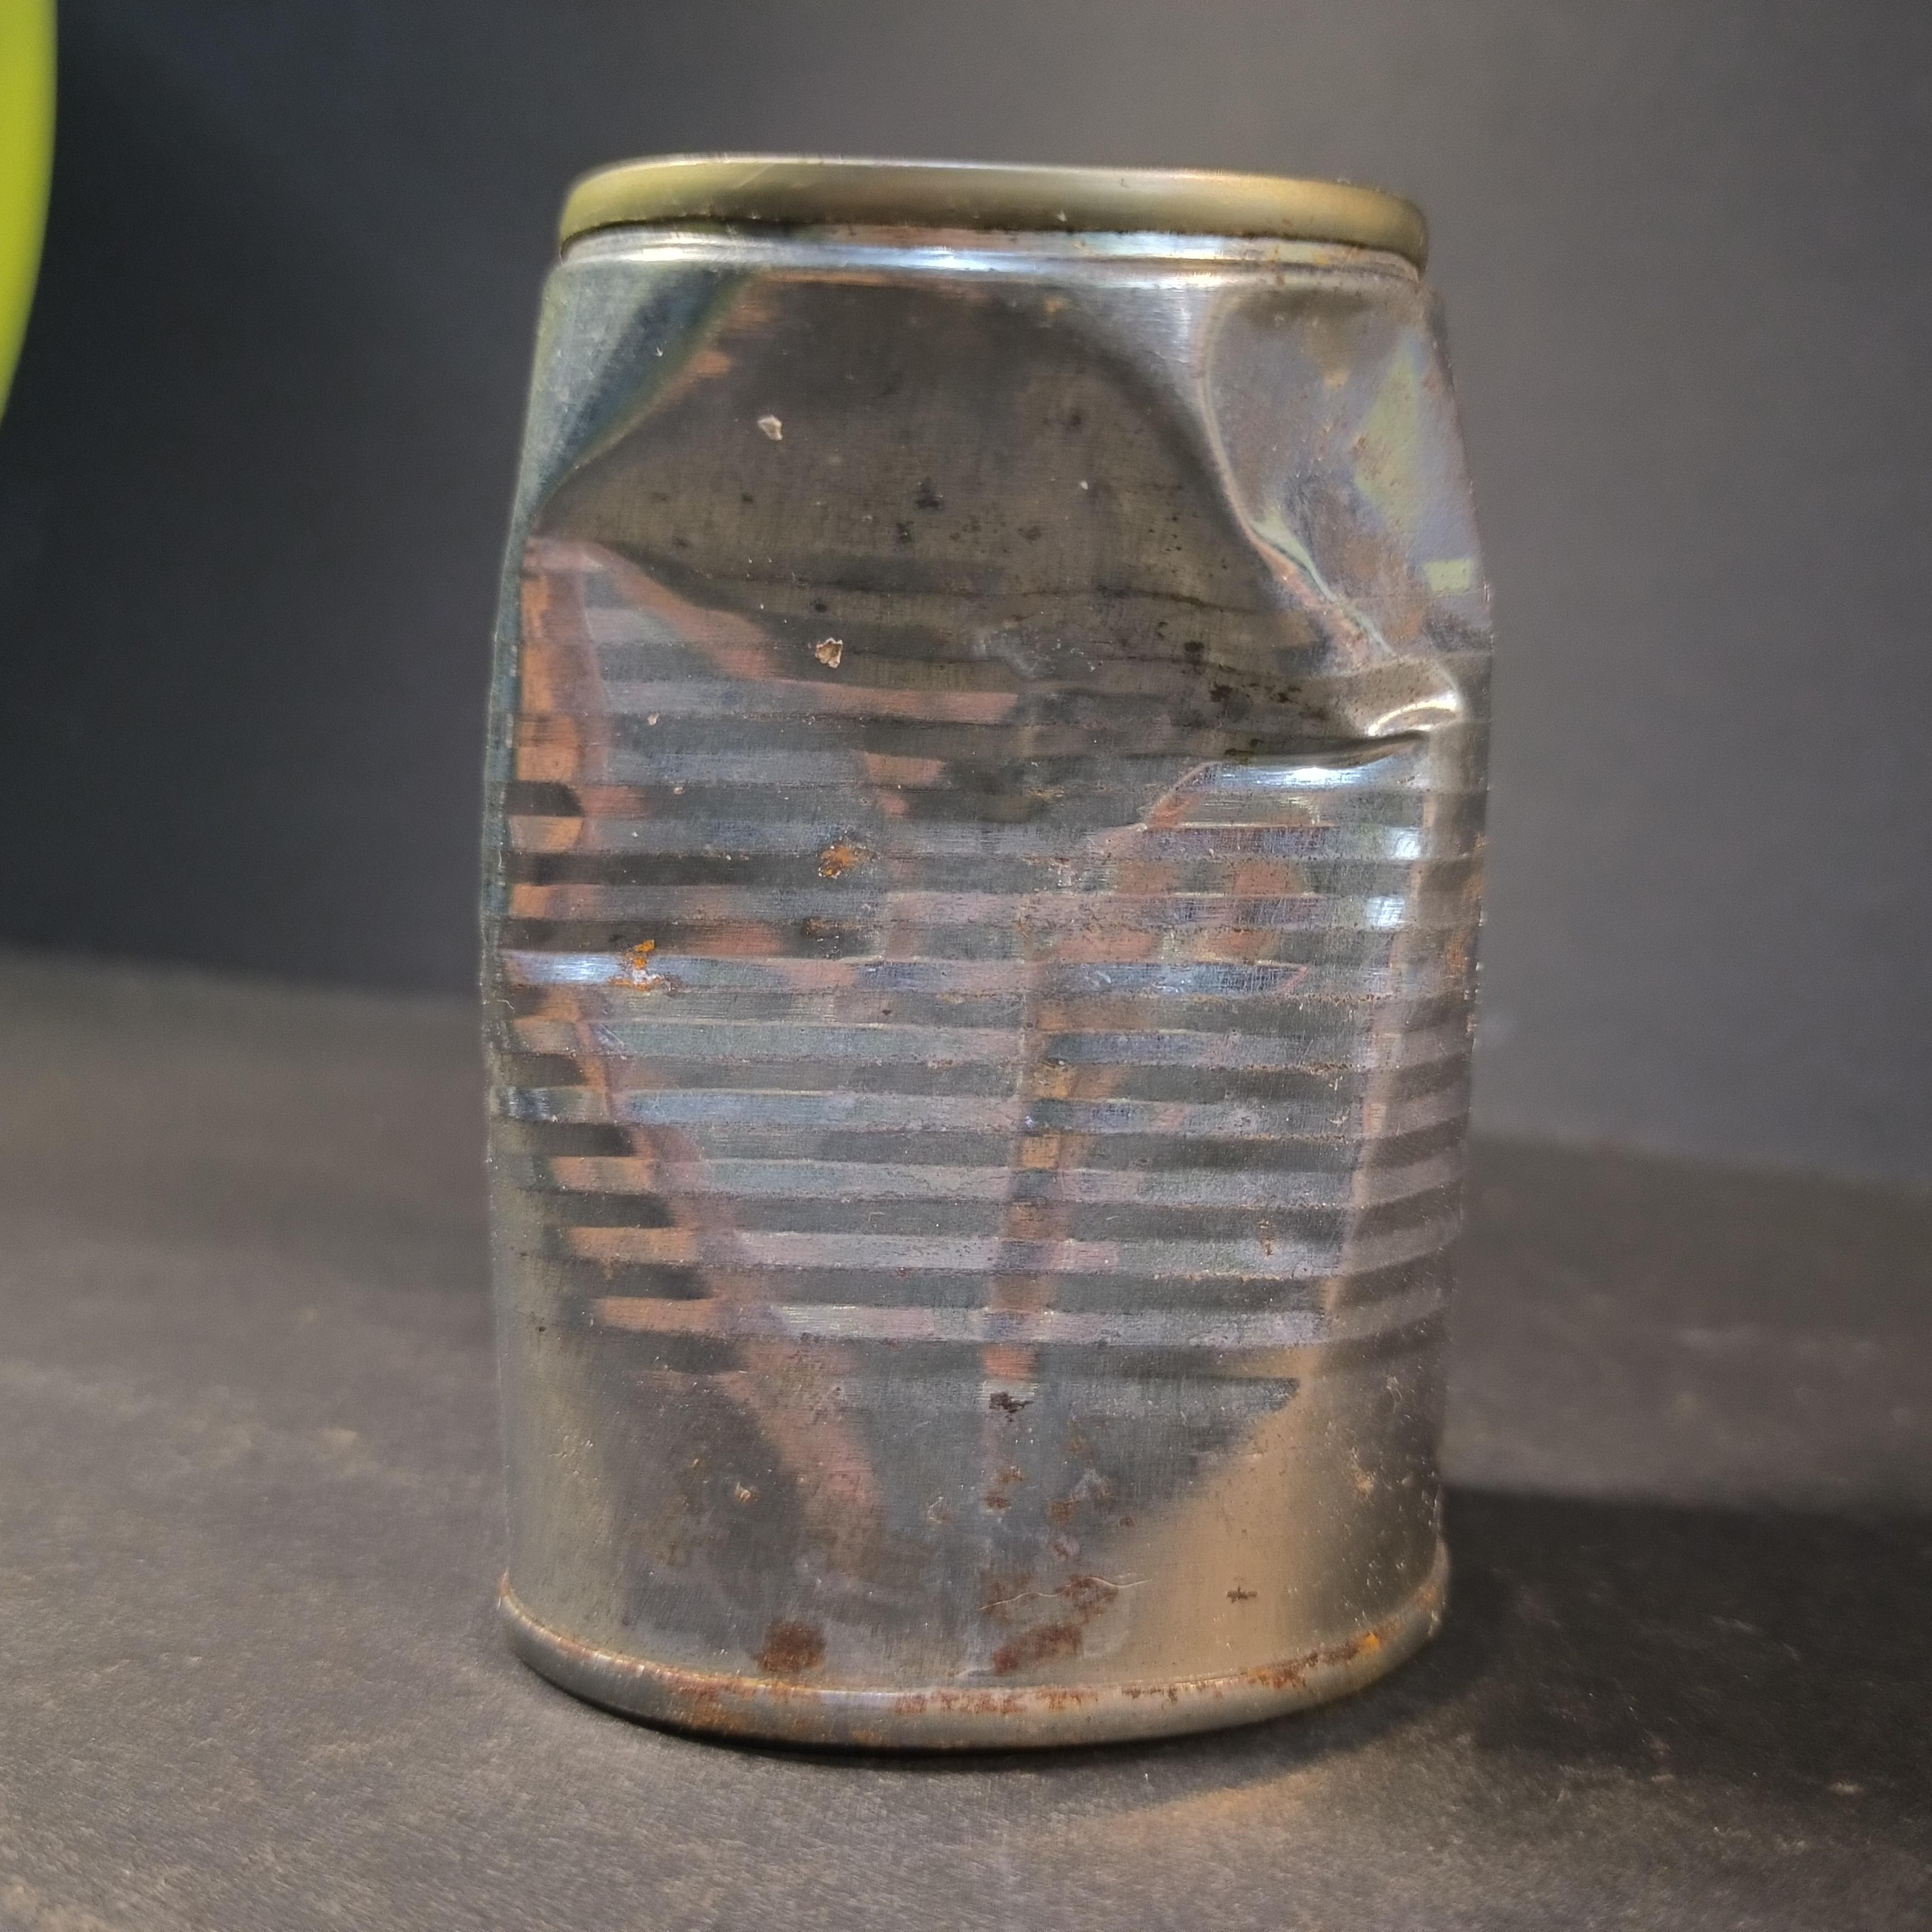Dented: (423, 127, 1500, 1775)
